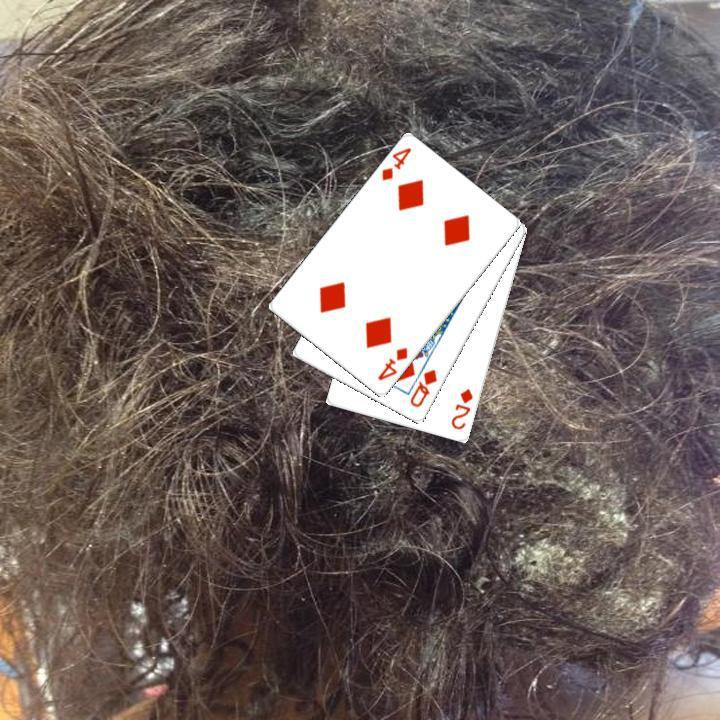2: (447, 385, 475, 432)
4: (373, 343, 410, 383), (377, 143, 413, 183)
Q: (405, 365, 439, 410)
